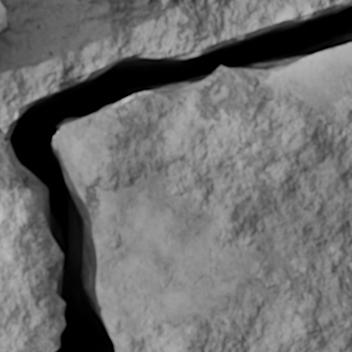brick: (0, 3, 5, 30)
broken_brick: (59, 46, 351, 351), (0, 141, 63, 351)
crack: (1, 0, 351, 351)
